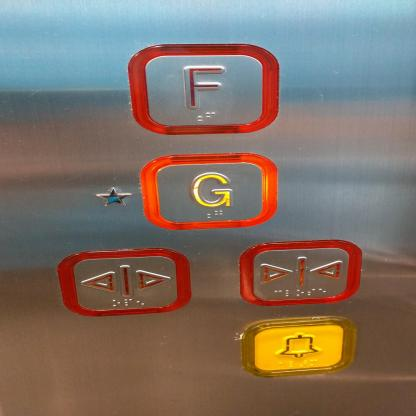F: (127, 41, 279, 134)
G: (140, 152, 276, 230)
alarm: (241, 316, 357, 378)
close: (238, 239, 362, 306)
open: (56, 249, 192, 316)
